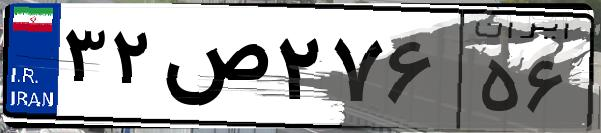2: (270, 28, 330, 110), (110, 28, 158, 98)
3: (57, 26, 110, 100)
5: (475, 38, 525, 113)
6: (385, 28, 445, 110), (525, 38, 570, 115)
7: (330, 28, 385, 110)
ص: (158, 20, 270, 120)
